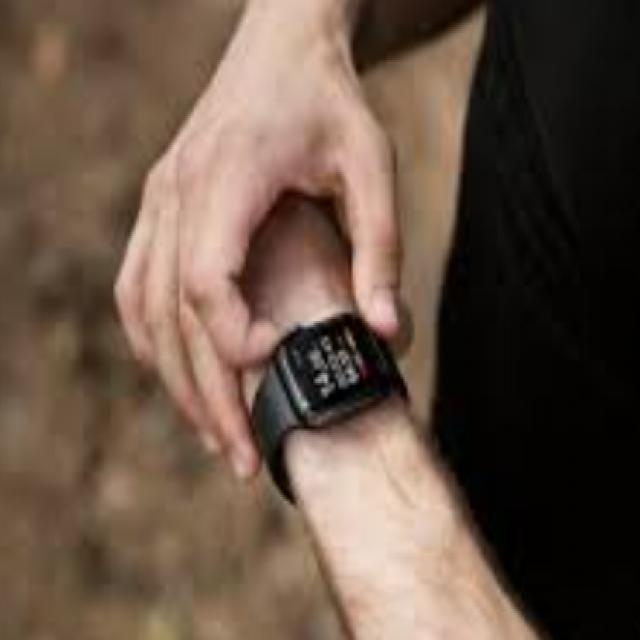Watch: (246, 314, 407, 456)
